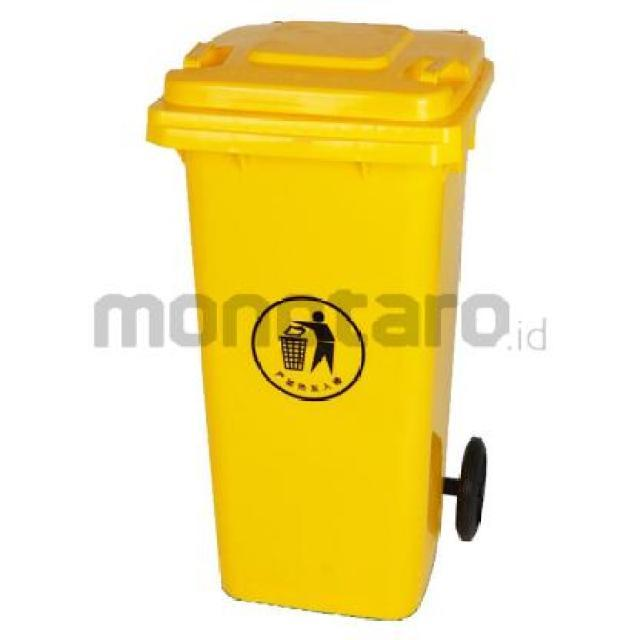garbage container: (134, 11, 531, 624)
